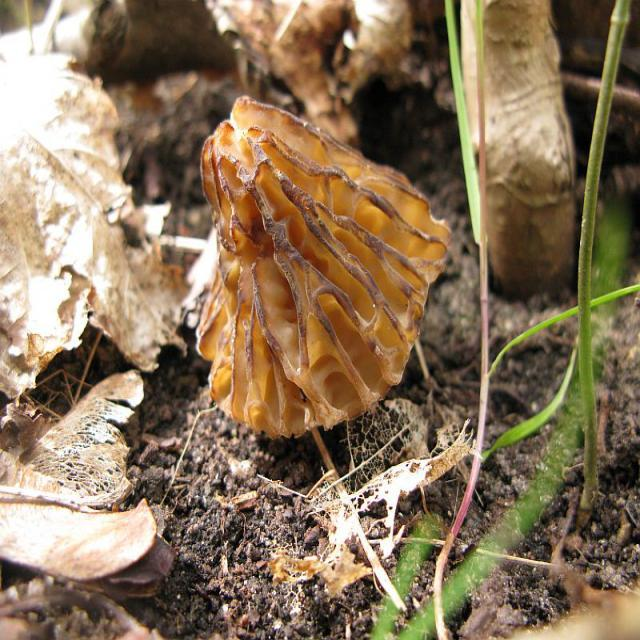Morchella esculenta: (194, 94, 453, 439)
